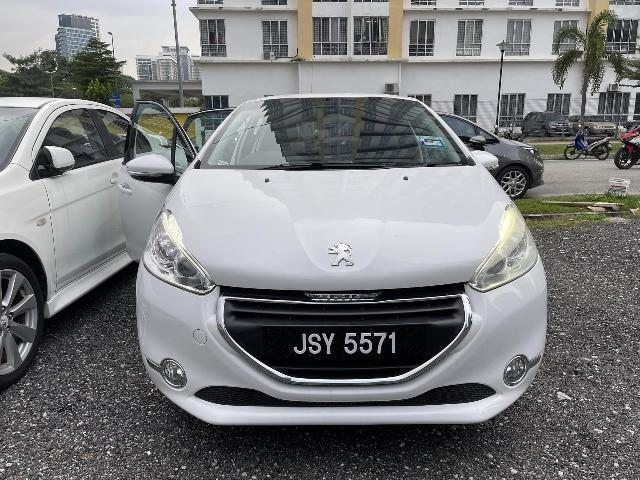License_Plate: (271, 325, 420, 365)
car: (127, 84, 557, 428), (2, 104, 159, 410)
